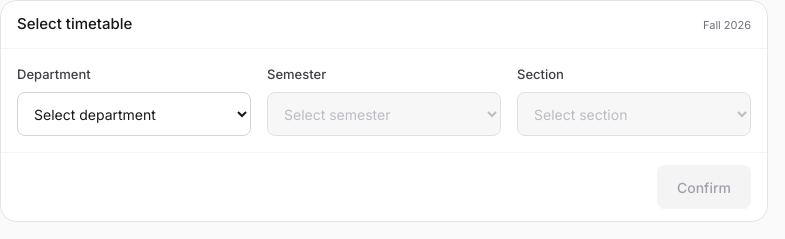
SectionPicker › progressively filters semesters by department
This screenshot has width=785, height=239.
expect the dropdown labelled "Semester" is disabled: met, box 267,92 -> 501,136
Select "CS" in the dropdown labelled "Department" at (134, 114), box 17,92 -> 251,136
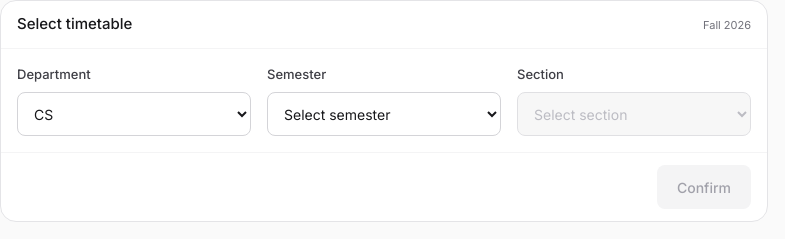
expect the dropdown labelled "Semester" is enabled: met, box 267,92 -> 501,136
